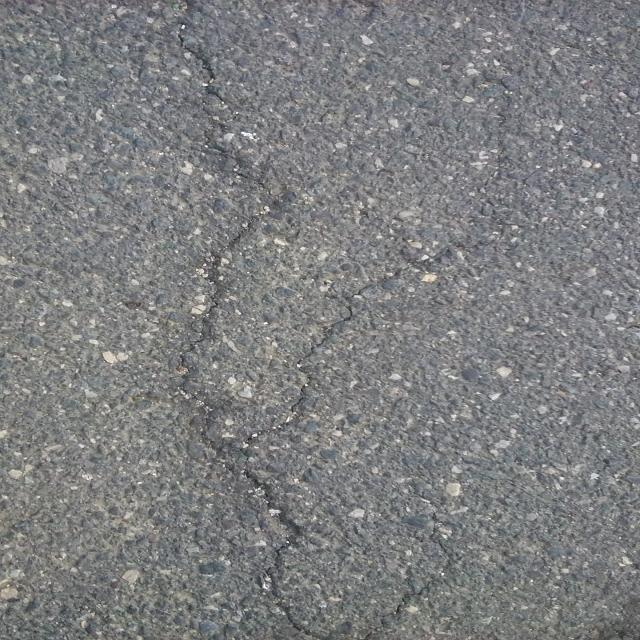Longitudial: (107, 0, 428, 640)
